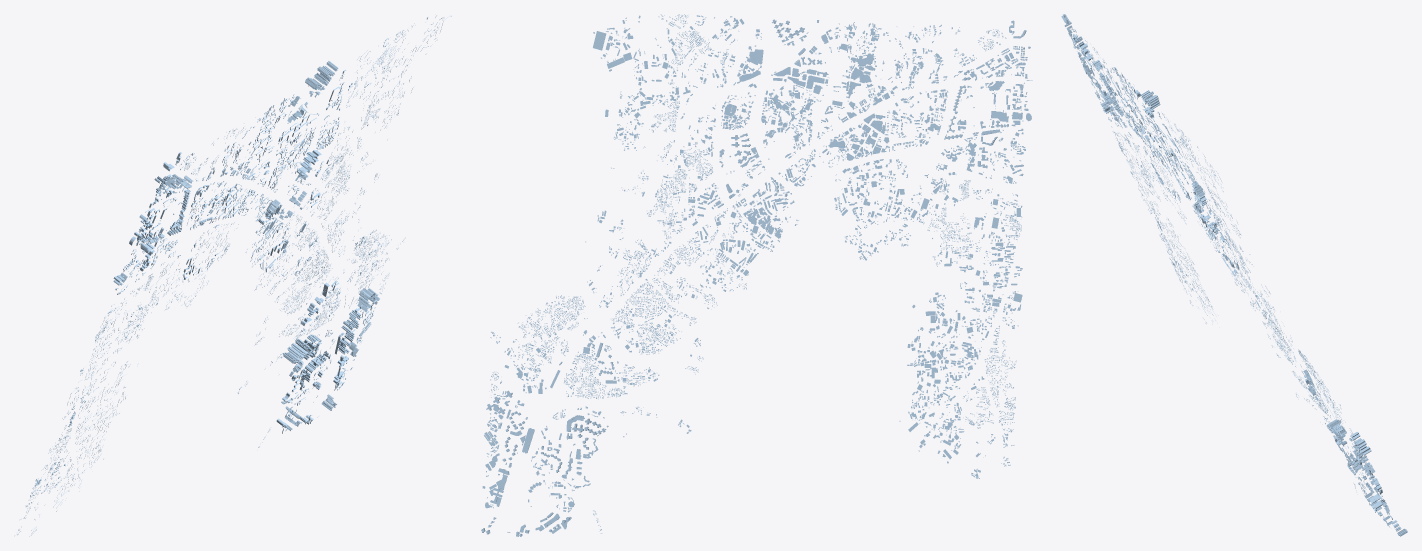
3 renders of one model, left to right at view 1: azimuth 30°, elevation 25°; view 2: azimuth 150°, elevation 25°; view 3: azimuth 270°, elevation 25°, orthographic. The views are drawn at different scales.
Parts seen in each view (by area): view 1: geometry_0; view 2: geometry_0; view 3: geometry_0.
Part boxes in pixels (x1,y1,x2,y2): geometry_0: (15,15,451,536); geometry_0: (481,14,1032,536); geometry_0: (1061,14,1407,536).
Size of the model in its own units: 4723 by 4717 by 3844.
